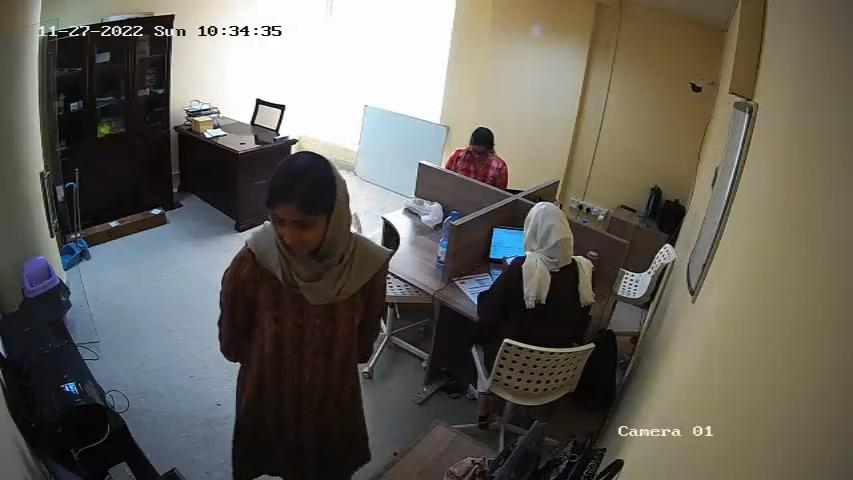no_apron: (234, 261, 363, 453)
